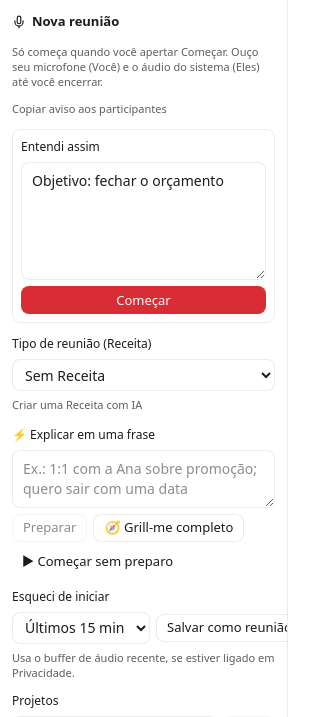
Scenario: meeting panel › the Recipe chosen is sent as the meeting kind; creating one goes to the agent
The width and height of the screenshot is (320, 717).
Later steps or results of the test are not shown.
Select "1:1" in the dropdown labelled "Tipo de reunião (Receita)" at (144, 375), box x1=12 y1=359 x2=275 y2=391
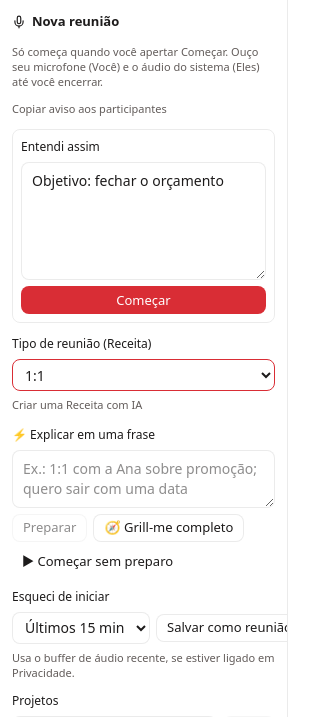
Click the button "▶ Começar sem preparo" at (98, 562), box x1=12 y1=548 x2=183 y2=576
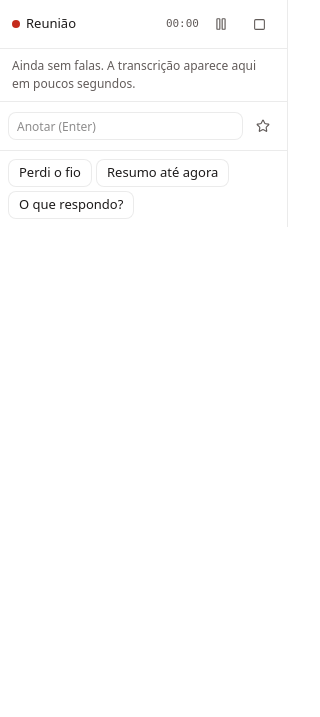
expect the text "00:00" is shown: met, box x1=166 y1=16 x2=199 y2=32
